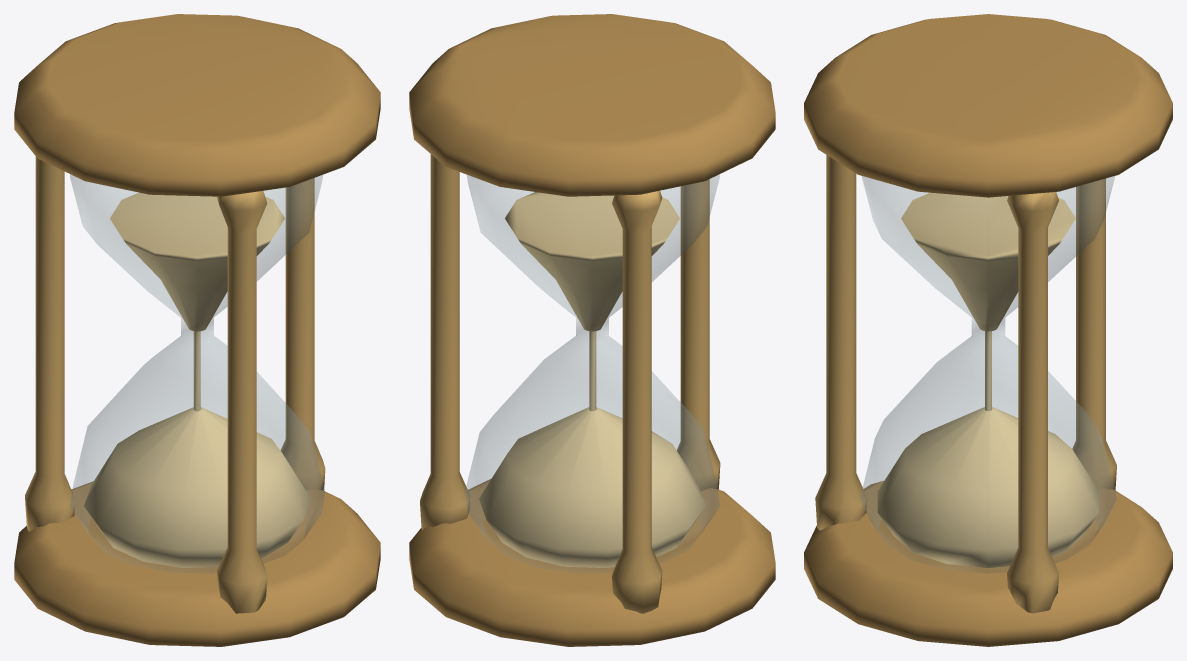
The model's file is hourglass.glb.
The picture shows the model from 3 angles, left to right: view 1: azimuth 30°, elevation 25°; view 2: azimuth 150°, elevation 25°; view 3: azimuth 270°, elevation 25°; orthographic projection.
Parts seen in each view (by area): view 1: hourglass; view 2: hourglass; view 3: hourglass.
Part boxes in pixels (box(x1,y1,x2,y2)): hourglass: box(14, 14, 380, 646); hourglass: box(409, 14, 775, 646); hourglass: box(804, 14, 1172, 646).
Bounding box in the file's own units: 0.2 × 0.3 × 0.2.
